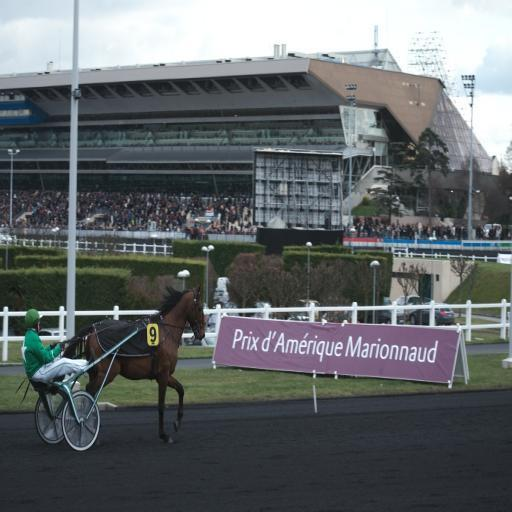horse: (61, 282, 207, 444)
